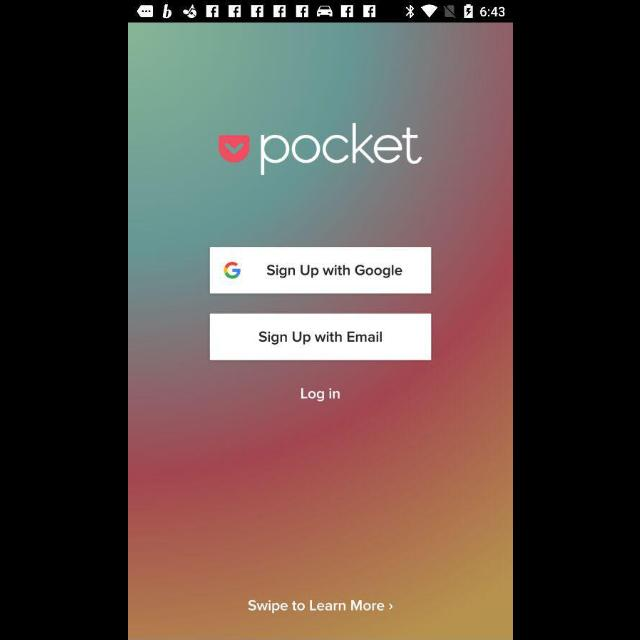image: (218, 123, 422, 177)
text: (247, 600, 393, 614), (300, 388, 340, 402)
textbutton: (210, 314, 430, 361), (210, 248, 430, 294)
uppertaskbar: (128, 1, 512, 23)
